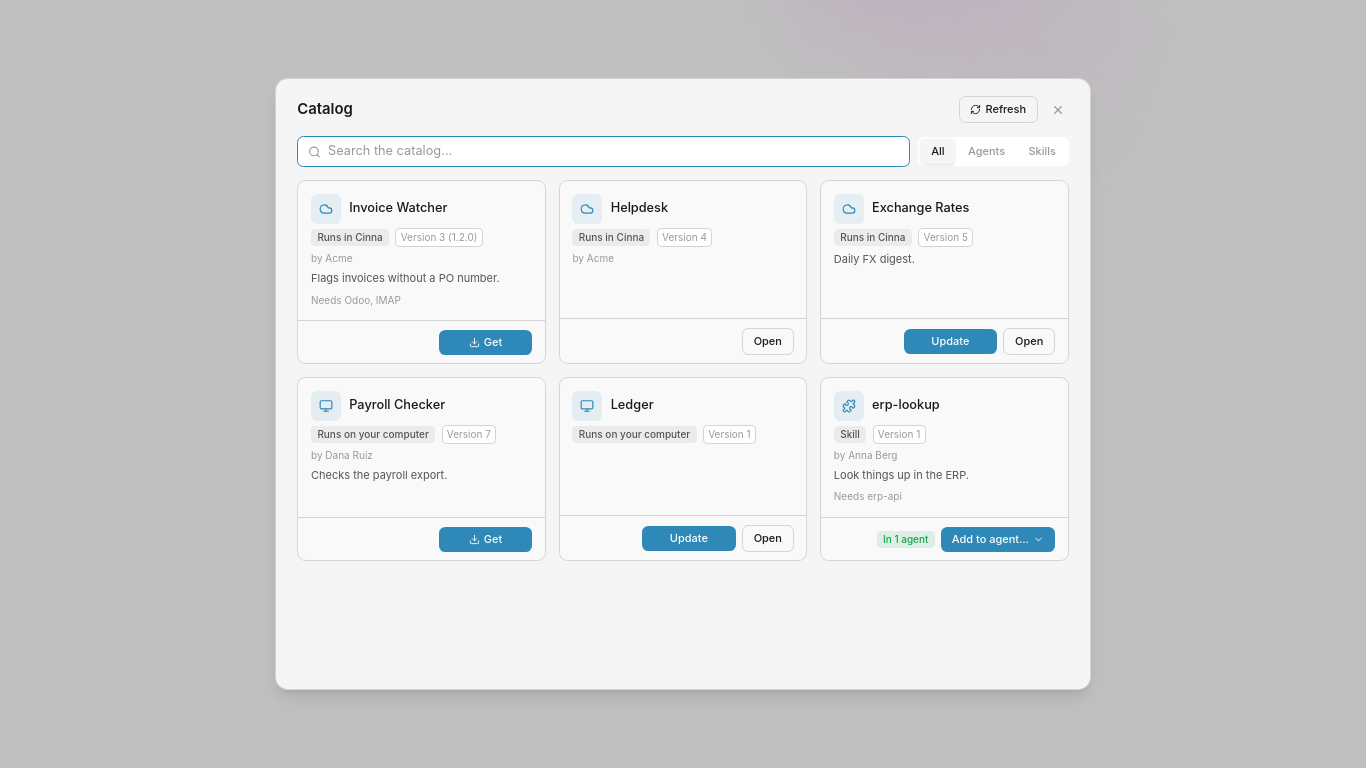
Test case: CatalogBrowserModal — Add to agent… › while the share statuses load, every agent waits as Checking access…
The image size is (1366, 768).
Expected: the 2nd button "Update" is shown, [642,526,736,551]
Click the button "Add to agent…" at x=998, y=539, box [941,527,1055,552]
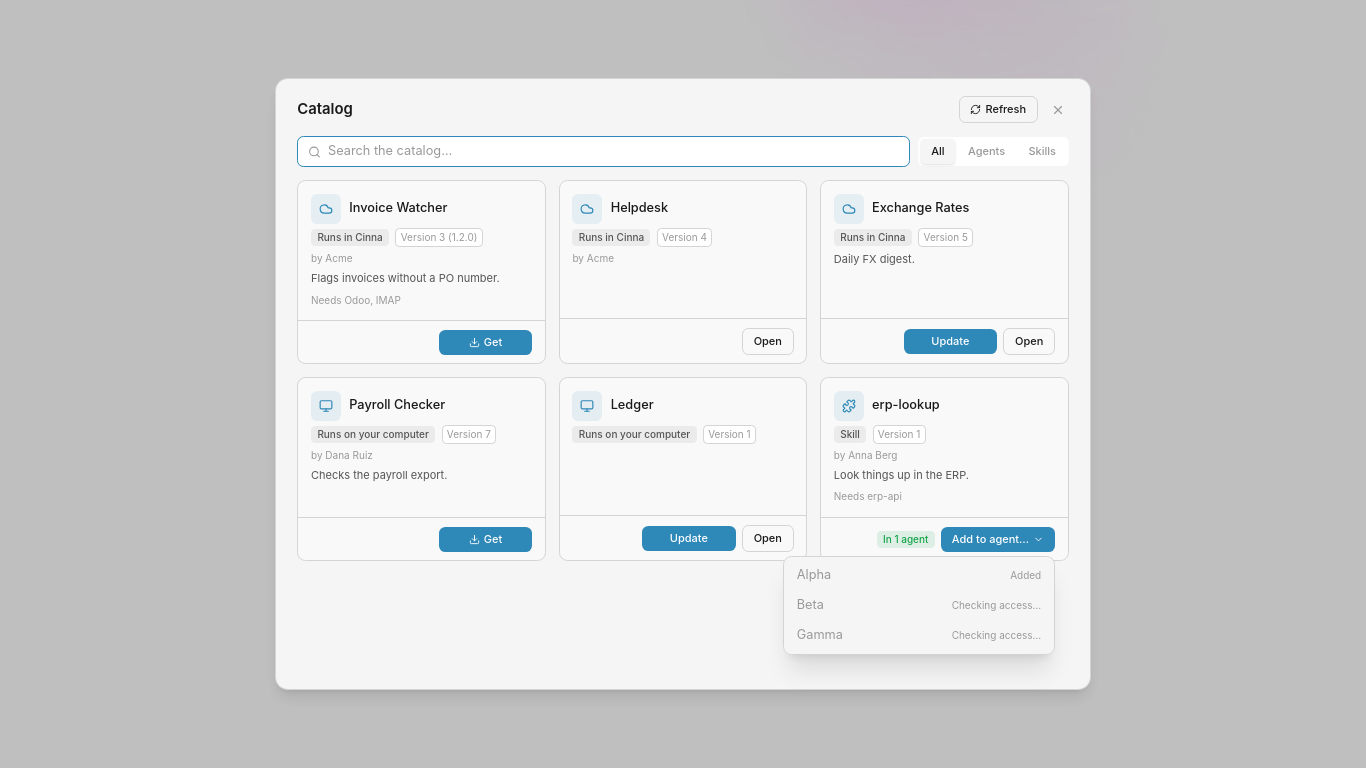
Now the menu item "Gamma Checking access…" is disabled, box [788,620,1050,650]
